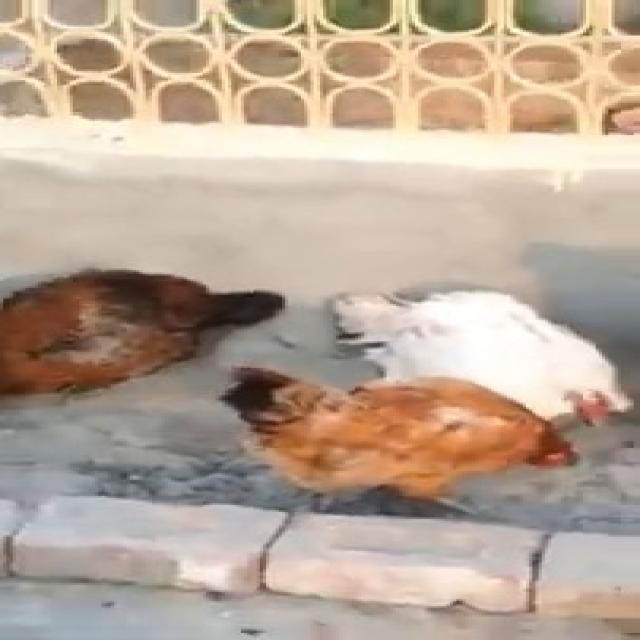stand bath: (235, 370, 586, 512)
